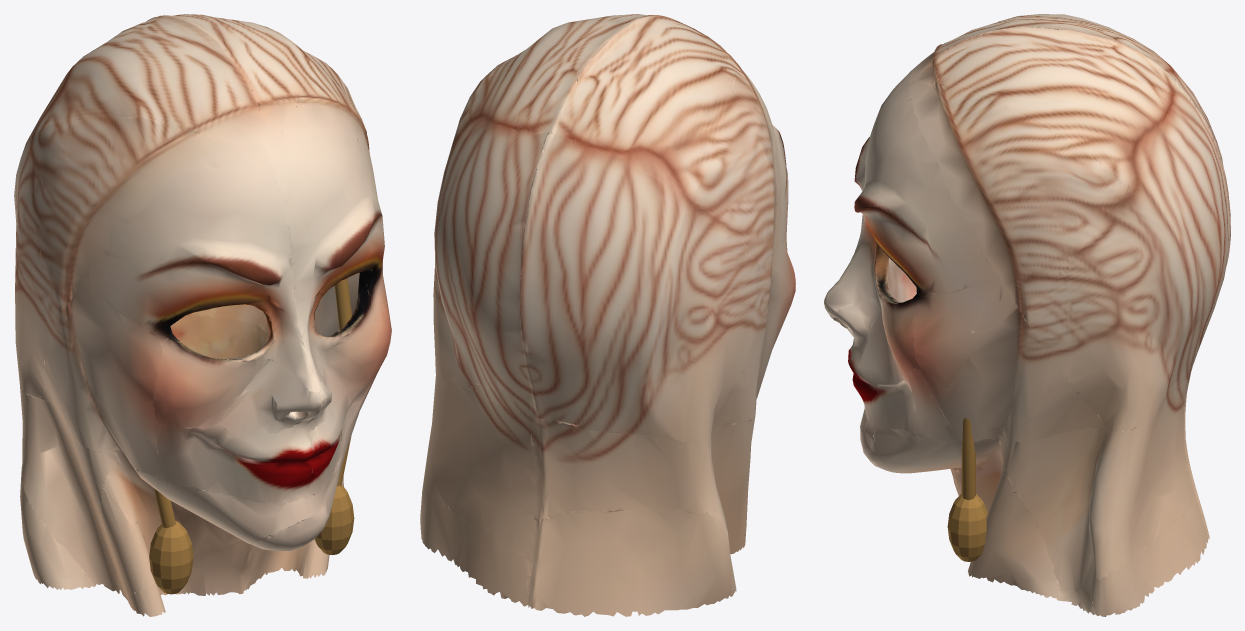
The model's file is mask-porcelain-grin.glb.
The picture shows the model from 3 angles, left to right: view 1: azimuth 30°, elevation 25°; view 2: azimuth 150°, elevation 25°; view 3: azimuth 270°, elevation 25°; orthographic projection. The views are drawn at different scales.
Visible parts, largest first — view 1: Banquet_Mask_Porcelain_Grin_Mesh_01, Porcelain_Grin_Tear_Drop_L, Porcelain_Grin_Tear_Drop_R, Porcelain_Grin_Tear_R; view 2: Banquet_Mask_Porcelain_Grin_Mesh_01; view 3: Banquet_Mask_Porcelain_Grin_Mesh_01, Porcelain_Grin_Tear_Drop_R, Porcelain_Grin_Tear_R.
Part boxes in pixels (x1,y1,x2,y2): Banquet_Mask_Porcelain_Grin_Mesh_01: (14,14,391,616); Porcelain_Grin_Tear_Drop_L: (149,520,193,594); Porcelain_Grin_Tear_Drop_R: (314,485,354,554); Porcelain_Grin_Tear_R: (334,278,351,486); Banquet_Mask_Porcelain_Grin_Mesh_01: (420,14,795,616); Banquet_Mask_Porcelain_Grin_Mesh_01: (824,14,1230,616); Porcelain_Grin_Tear_Drop_R: (947,493,987,561); Porcelain_Grin_Tear_R: (961,418,975,500).
Bounding box in the file's own units: 0.3017 × 0.48 × 0.3465.
Materials: 2 (1 with a texture image).
